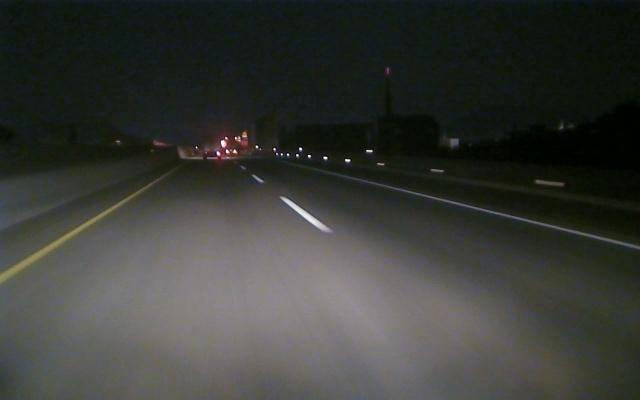lane: (351, 178, 637, 251), (3, 183, 152, 282), (251, 174, 337, 234)
